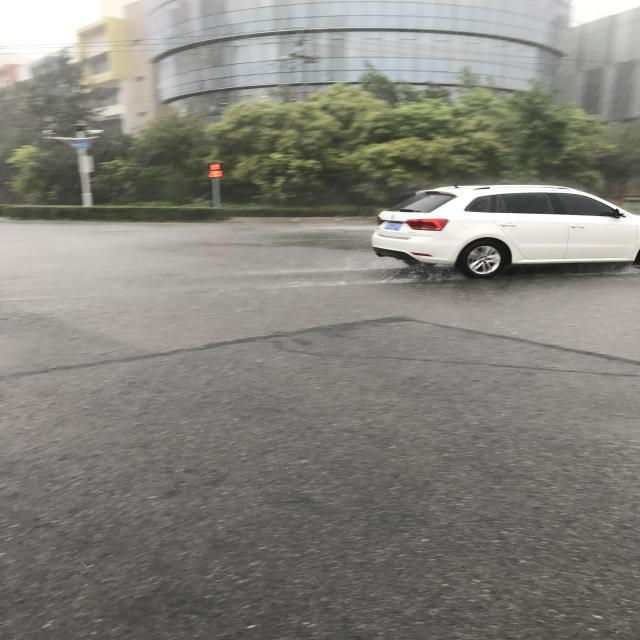car: (182, 0, 278, 270)
